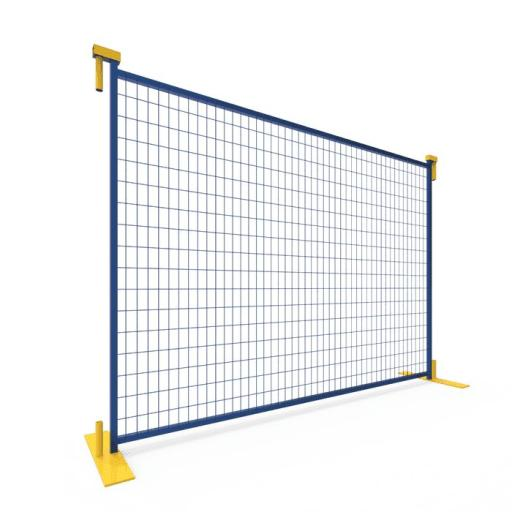bus_stop: (97, 57, 435, 454)
